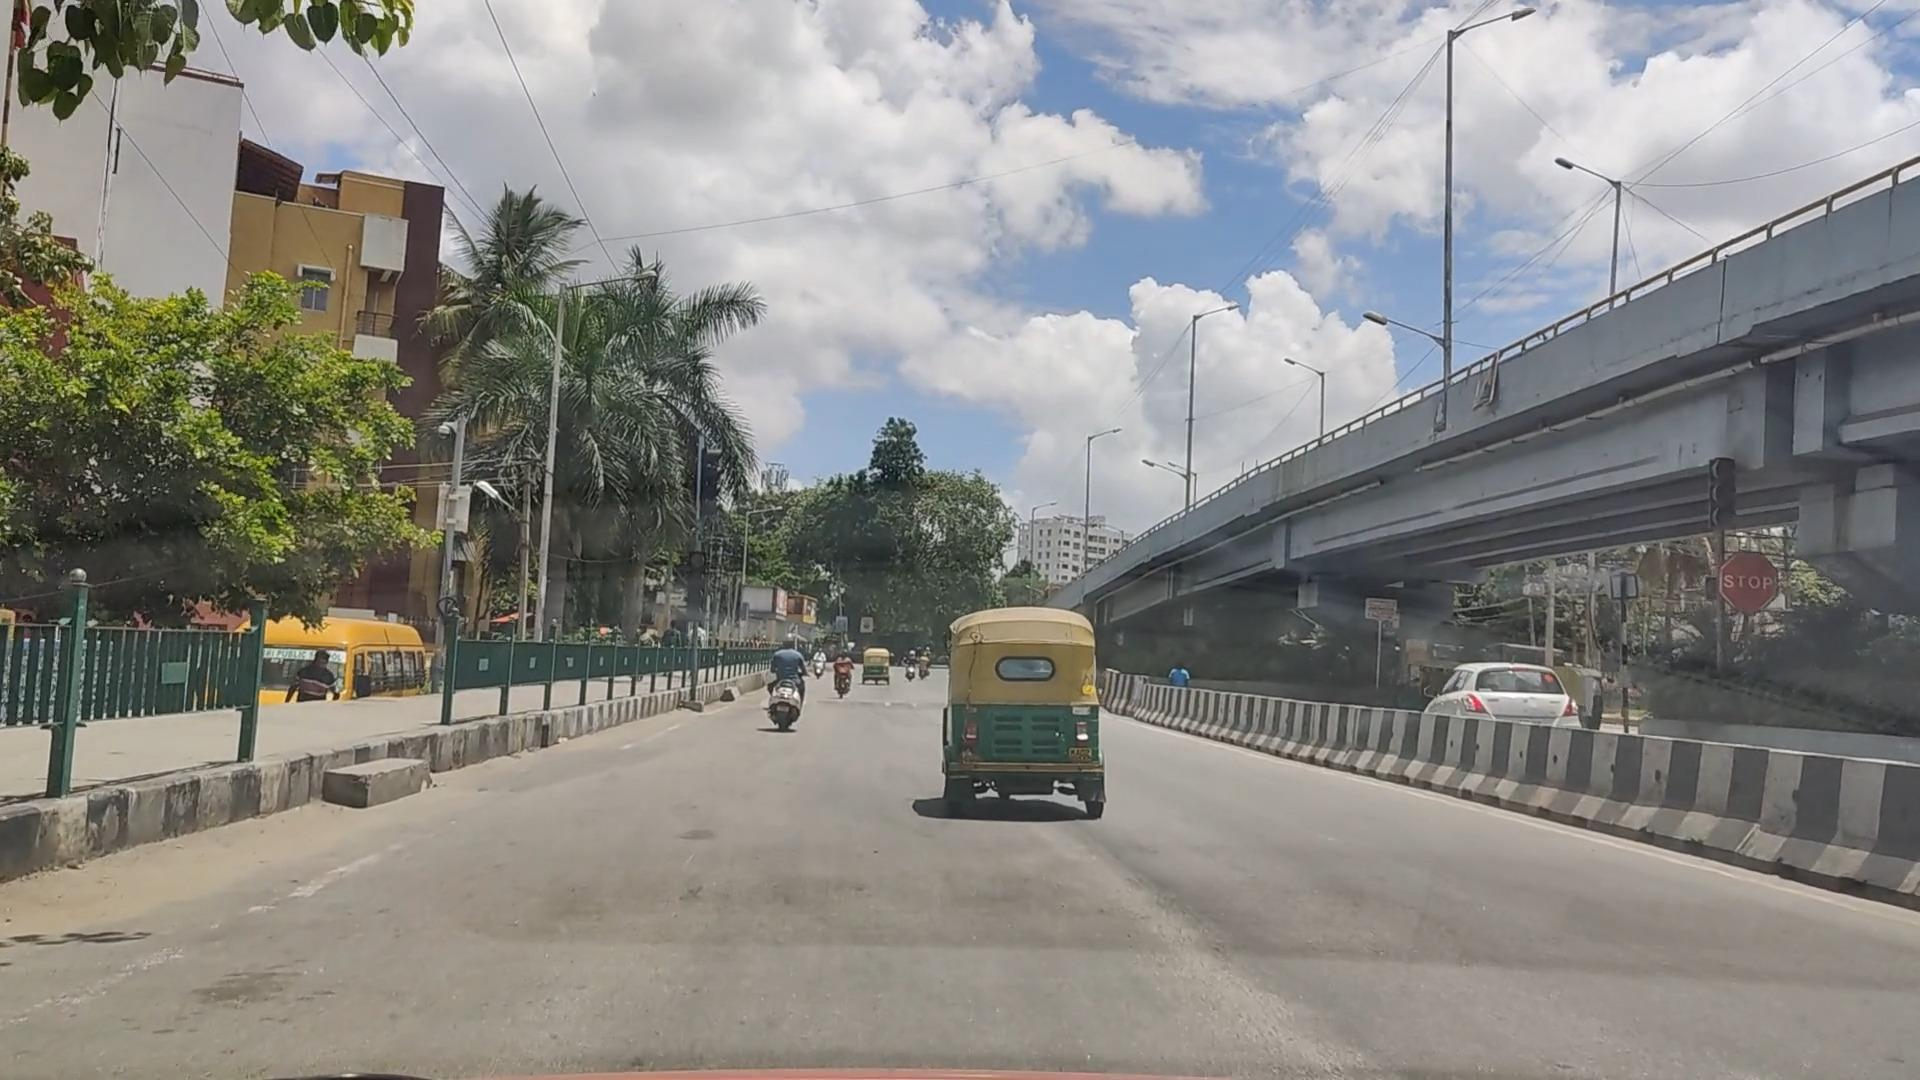LMV: (940, 611, 1112, 832)
RoadDamages: (1143, 922, 1340, 1071)
